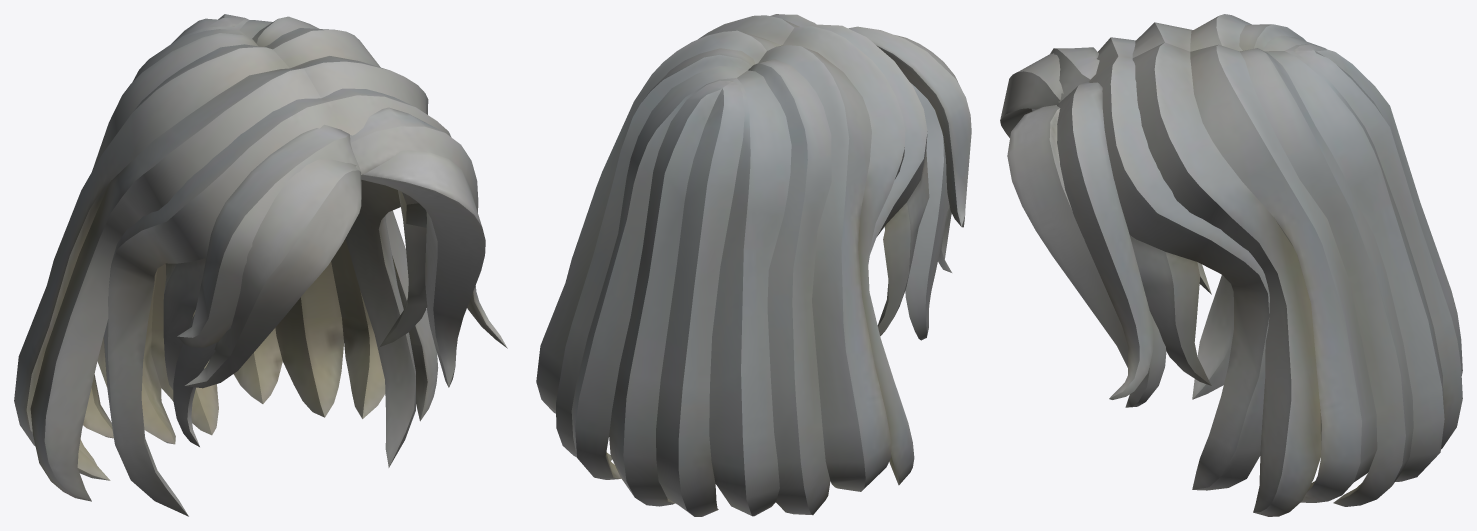
Rendered from cheveux_long.glb.
3 views of the same model, side by side, from view 1: azimuth 30°, elevation 25°; view 2: azimuth 150°, elevation 25°; view 3: azimuth 270°, elevation 25° (orthographic). The views are drawn at different scales.
Visible parts, largest first — view 1: Hair_Long; view 2: Hair_Long; view 3: Hair_Long.
Boxes of the visible parts, box(x1,y1,x2,y2) form: Hair_Long: box(14, 14, 507, 516); Hair_Long: box(536, 14, 971, 516); Hair_Long: box(1000, 14, 1462, 516).
Size of the model in its own units: 0.2447 by 0.2764 by 0.2705.
Materials: 1 (1 with a texture image).
